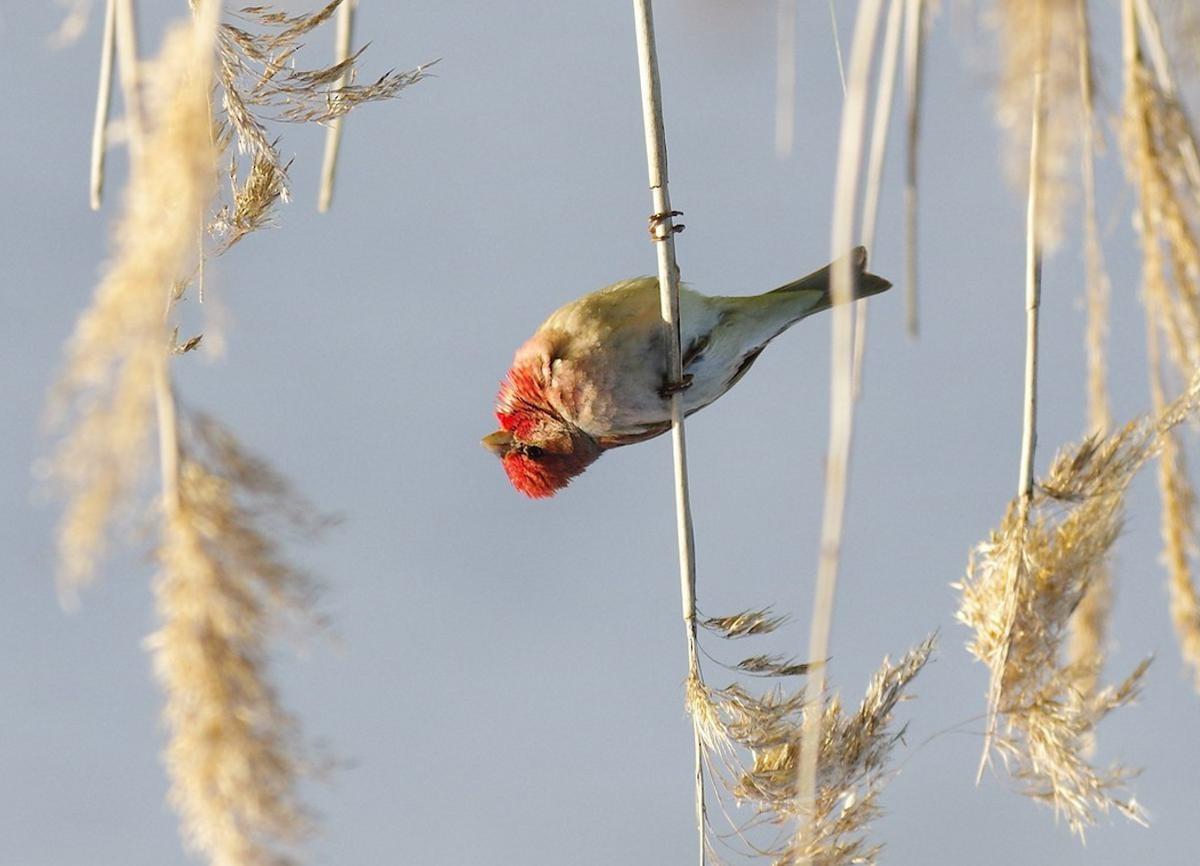rosefinch: (485, 230, 880, 511)
